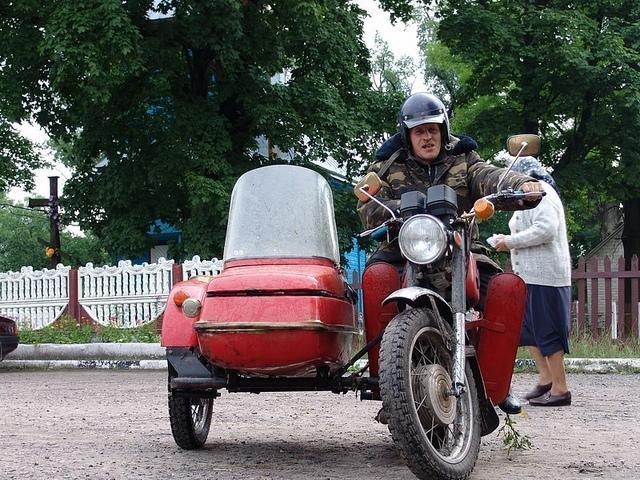car: (0, 316, 20, 362)
motorcycle: (352, 134, 552, 474)
